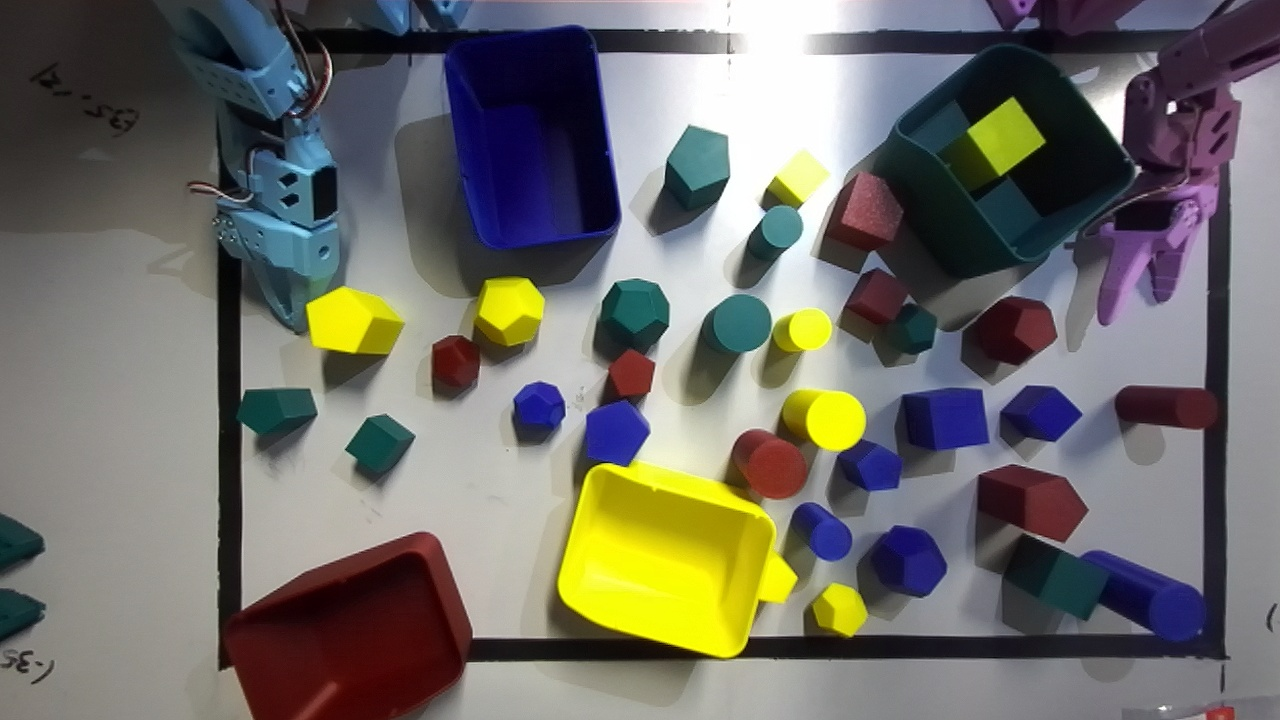bin: (872, 45, 1135, 277), (223, 532, 471, 719), (558, 461, 775, 657), (446, 27, 619, 248)
cube: (939, 97, 1045, 189), (1004, 535, 1108, 619), (825, 171, 903, 250), (902, 388, 988, 450), (1001, 385, 1082, 441), (345, 414, 415, 476), (762, 149, 829, 208), (844, 268, 908, 324)
cylinder: (1080, 551, 1205, 641), (781, 389, 865, 451), (731, 430, 807, 498), (1115, 385, 1217, 428), (702, 295, 770, 353), (790, 502, 851, 561), (747, 205, 802, 260), (772, 308, 831, 351)
dodecahedron: (969, 297, 1056, 365), (870, 525, 946, 596), (597, 279, 669, 353), (474, 276, 543, 346), (810, 583, 866, 637), (432, 335, 479, 397), (512, 381, 565, 430), (890, 303, 936, 353)
hexagonal: (977, 465, 1087, 541), (306, 287, 403, 354), (665, 125, 729, 209), (585, 400, 649, 465), (236, 388, 316, 434), (837, 439, 902, 490), (757, 548, 797, 602), (609, 349, 654, 396)
